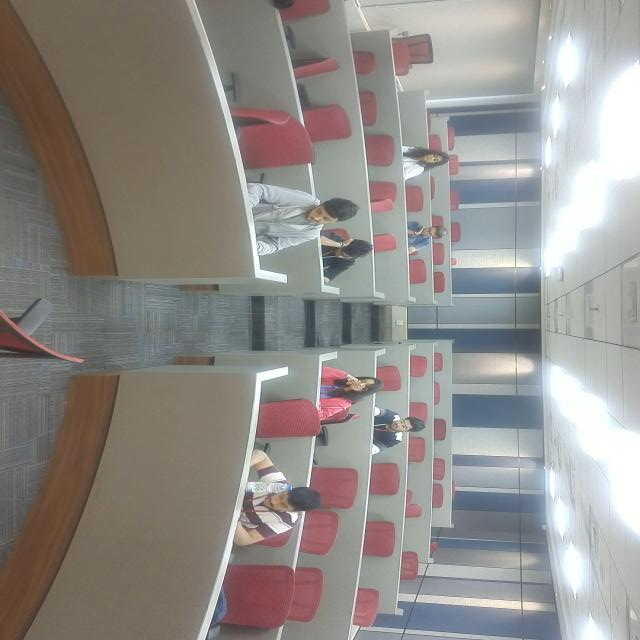non-cheating: (182, 278, 254, 392), (359, 261, 420, 337)
